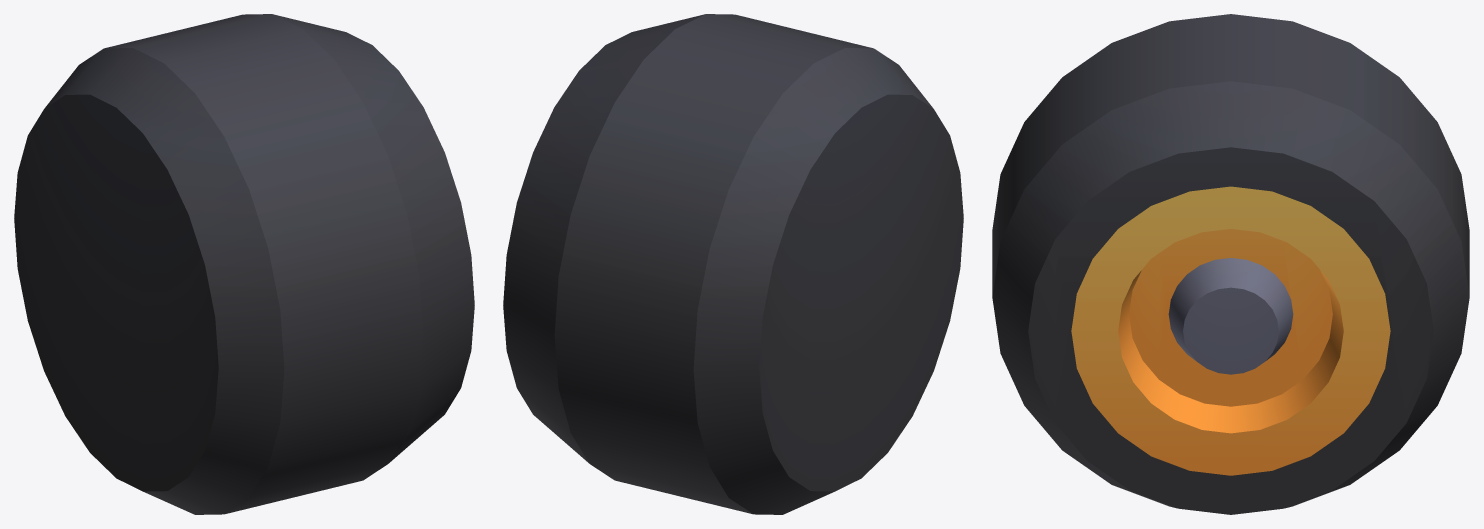
Rendered from kenney-car-wheel-tractor-back.glb.
3 views of the same model, side by side, from view 1: azimuth 30°, elevation 25°; view 2: azimuth 150°, elevation 25°; view 3: azimuth 270°, elevation 25° (orthographic).
Parts seen in each view (by area): view 1: wheel-tractor-back; view 2: wheel-tractor-back; view 3: wheel-tractor-back.
Part boxes in pixels (x1,y1,x2,y2): wheel-tractor-back: [14, 14, 474, 514]; wheel-tractor-back: [503, 14, 963, 514]; wheel-tractor-back: [992, 14, 1469, 514].
Size of the model in its own units: 0.5375 by 0.8752 by 0.8752.
Materials: 1 (1 with a texture image).
